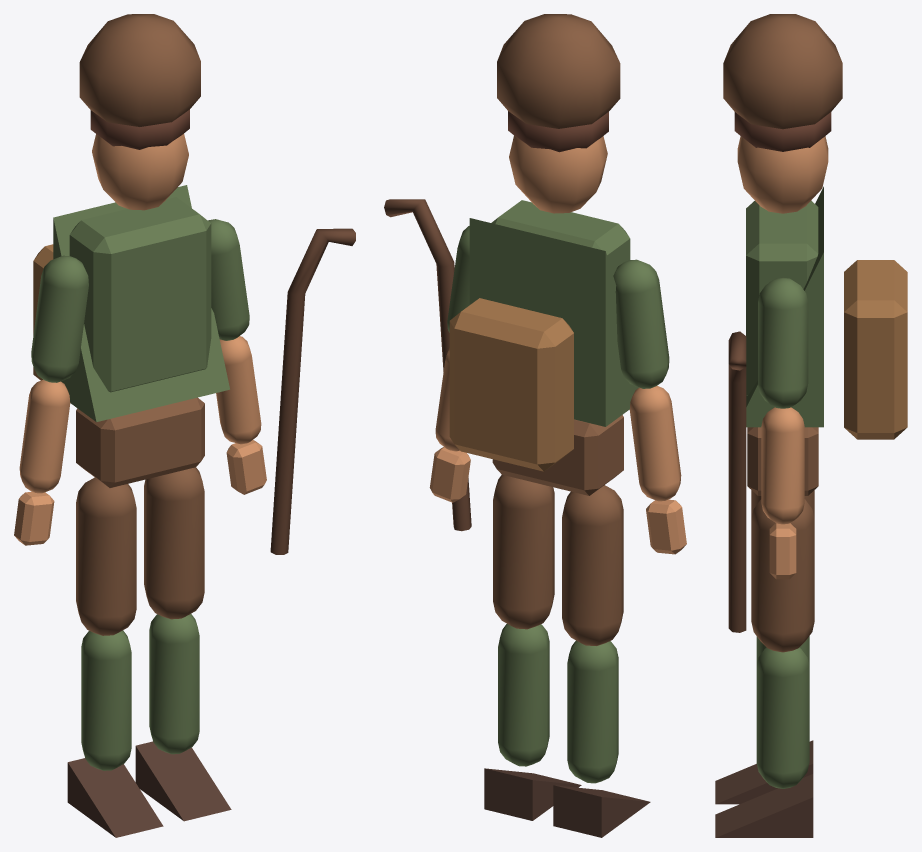
File: adventurer.rustic.glb
The picture shows the model from 3 angles, left to right: view 1: azimuth 30°, elevation 25°; view 2: azimuth 150°, elevation 25°; view 3: azimuth 270°, elevation 25°; orthographic projection.
Visible parts, largest first — view 1: torso, accessory.head, thigh.left, pelvis, thigh.right, tunic, shin.left, shin.right, accessory.main-hand, upper-arm.left, head, foot.left (+8 smaller); view 2: accessory.back, tunic, accessory.head, thigh.left, thigh.right, shin.right, shin.left, upper-arm.left, head, pelvis, forearm.left, torso (+8 smaller); view 3: accessory.head, accessory.back, shin.right, thigh.right, torso, upper-arm.right, accessory.main-hand, head, forearm.right, foot.right, tunic, hair (+3 smaller).
Part boxes in pixels (x1,y1,x2,y2): torso: (69,197,211,392); accessory.head: (79,14,200,126); thigh.left: (76,477,136,635); pelvis: (76,397,204,487); thigh.right: (144,467,204,619); tunic: (53,185,229,422); shin.left: (81,630,131,770); shin.right: (149,614,199,754); accessory.main-hand: (270,228,355,554); upper-arm.left: (31,255,88,382); head: (92,134,188,210); foot.left: (67,758,163,837); accessory.back: (449,298,573,471); tunic: (469,218,638,426); accessory.head: (497,14,620,128); thigh.left: (562,485,623,645); thigh.right: (493,475,554,629); shin.right: (498,624,549,766); shin.left: (567,640,618,783); upper-arm.left: (613,259,669,388); head: (509,135,607,213); pelvis: (492,415,623,495); forearm.left: (629,386,681,501); torso: (491,200,630,275); accessory.head: (723,14,842,129); accessory.back: (844,260,907,439); shin.right: (756,647,809,788); thigh.right: (751,499,814,652); torso: (746,200,818,395); upper-arm.right: (758,277,808,408); accessory.main-hand: (728,331,746,632); head: (737,136,828,213); forearm.right: (761,407,804,524); foot.right: (715,774,813,837); tunic: (746,186,823,427); hair: (734,112,831,151).
Bounding box in the file's own units: 1.39 × 3.29 × 0.725.
